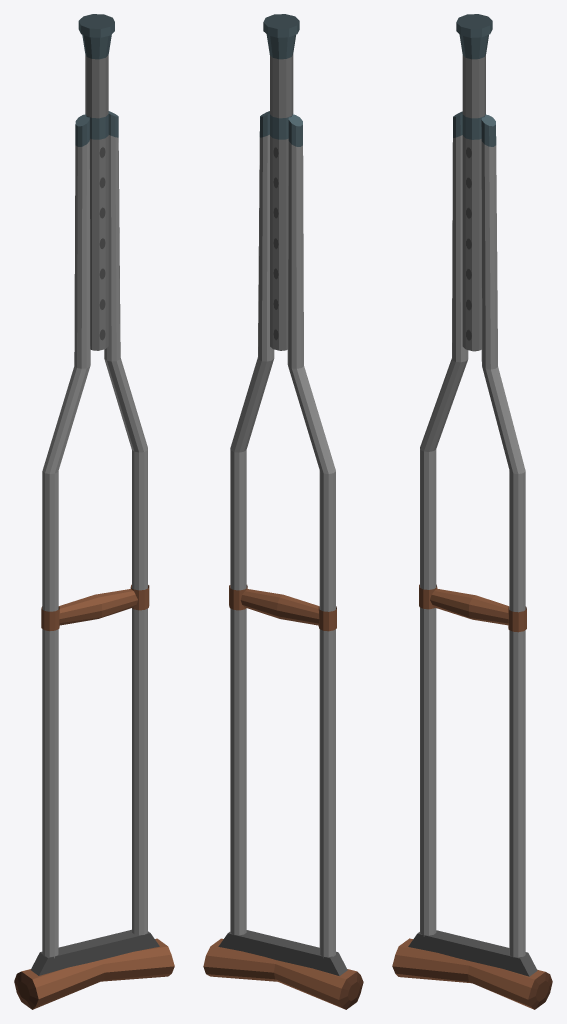
File: Crutch.fbx
3 views of the same model, side by side, from view 1: azimuth 30°, elevation 25°; view 2: azimuth 150°, elevation 25°; view 3: azimuth 330°, elevation 25° (orthographic).
Parts seen in each view (by area): view 1: ZomboidCrutch; view 2: ZomboidCrutch; view 3: ZomboidCrutch.
Boxes of the visible parts, <box> form: ZomboidCrutch: <box>14,14,174,1009</box>; ZomboidCrutch: <box>203,14,363,1009</box>; ZomboidCrutch: <box>392,14,552,1009</box>.
Size of the model in its own units: 0.0961 by 0.6315 by 0.0293.
